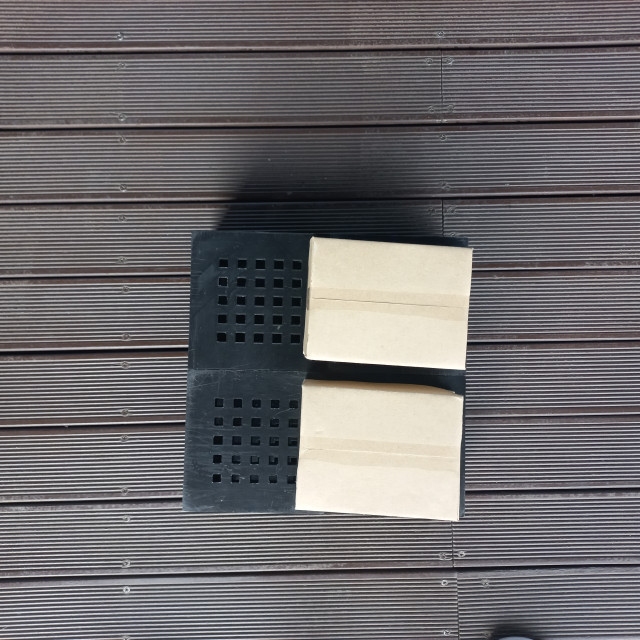box: (301, 234, 476, 375), (293, 377, 463, 521), (119, 293, 259, 464), (270, 303, 405, 474)
